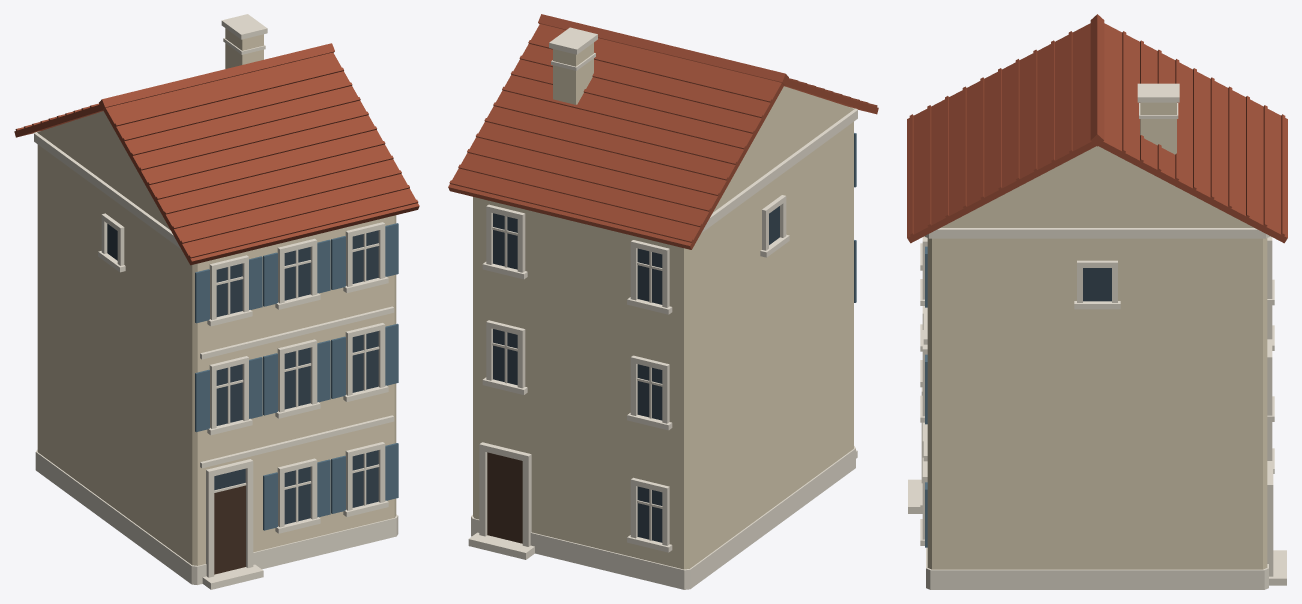
Rendered from maison-a.glb.
3 views of the same model, side by side, from view 1: azimuth 30°, elevation 25°; view 2: azimuth 150°, elevation 25°; view 3: azimuth 270°, elevation 25° (orthographic). The views are drawn at different scales.
Visible parts, largest first — view 1: maison-a; view 2: maison-a; view 3: maison-a.
Part boxes in pixels (x1,y1,x2,y2): maison-a: (14,14,419,589); maison-a: (448,14,878,589); maison-a: (907,14,1287,589).
Bounding box in the file's own units: 5.86 × 10.79 × 7.84.
